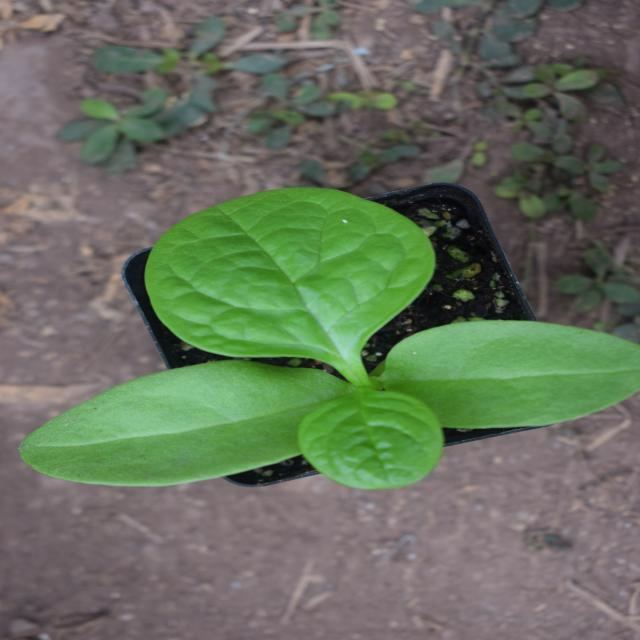Ceylon spinach: (124, 36, 433, 604)
